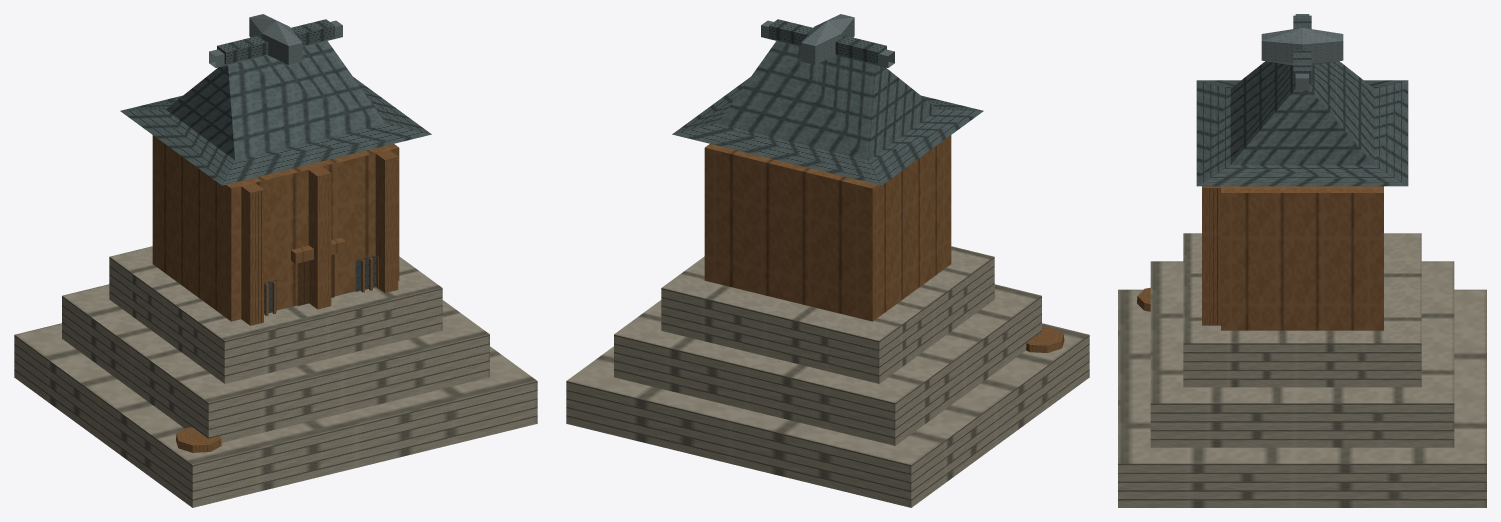
The model's file is domestic-BRONZE_TERRACE-1-lod0.glb.
The picture shows the model from 3 angles, left to right: view 1: azimuth 30°, elevation 25°; view 2: azimuth 150°, elevation 25°; view 3: azimuth 270°, elevation 25°; orthographic projection. The views are drawn at different scales.
Size of the model in its own units: 0.76 by 0.8 by 0.68.
Materials: 1 (1 with a texture image).
